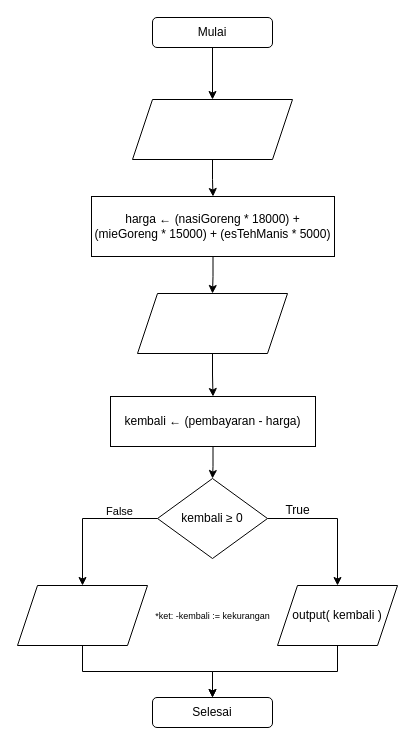
Some shapes in this 415 by 745 pixel diagram are drawn without their labels. Each missing label, with the box of its shape:
input(nasiGoreng) input(mieGoreng) input(esTehManis): (132, 98, 292, 160)
output( -kembali ): (16, 584, 148, 646)
output(harga) input(pembayaran): (136, 292, 288, 354)
